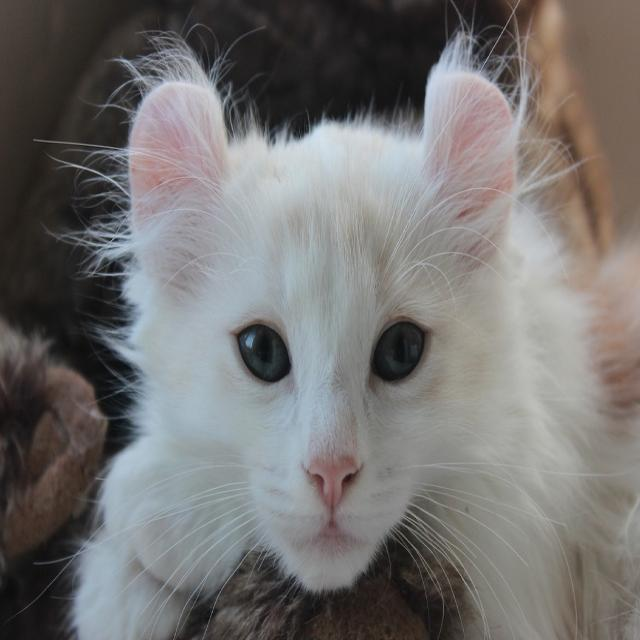American Curl: (65, 37, 640, 640)
